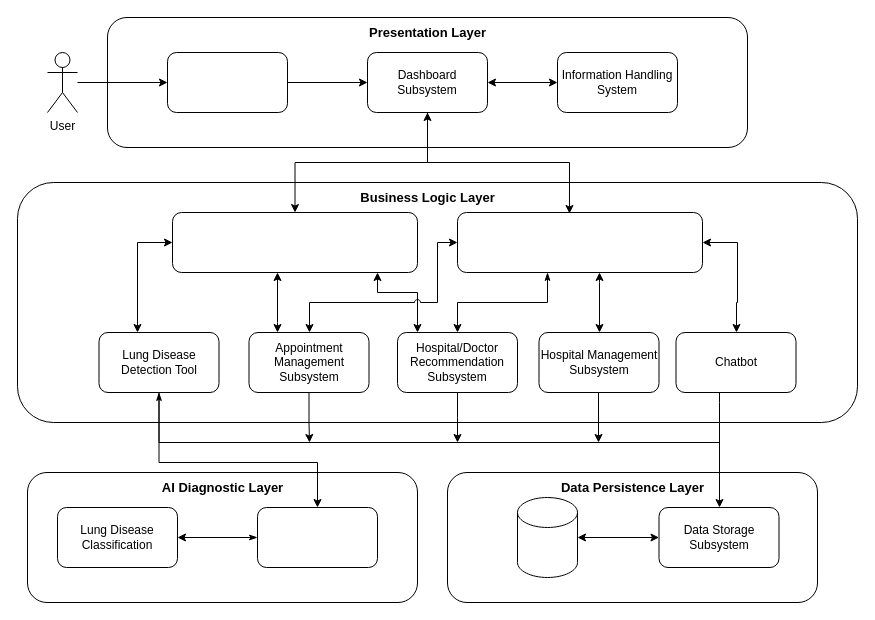
The diagram is 875 pixels wide and 620 high, and some of its shapes have lost their labels. Here are the shapes that lost their labels. From the top down, the box of each, then its label:
(166, 52, 288, 112): Authorization and Authentication
(172, 212, 418, 272): Doctor Subsystem
(456, 212, 702, 272): Patient Subsystem
(256, 506, 378, 568): Image Detection Subsystem
(516, 496, 578, 578): MongoDB /API
